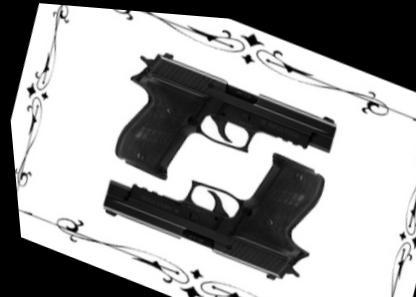pistol: (88, 93, 334, 288), (101, 39, 344, 236)
